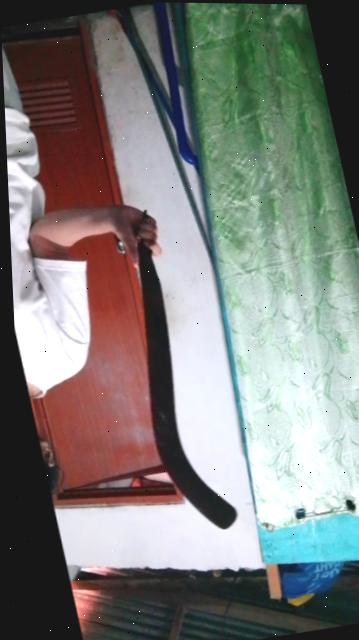long knife: (87, 186, 248, 542)
